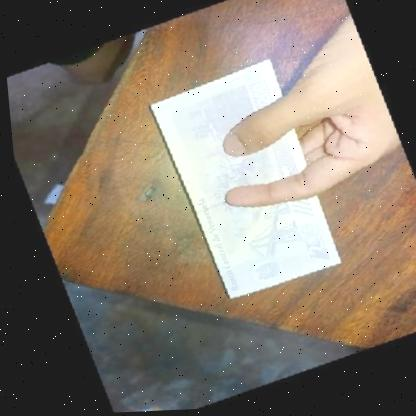two_hundred-back-vef: (140, 55, 340, 308)
